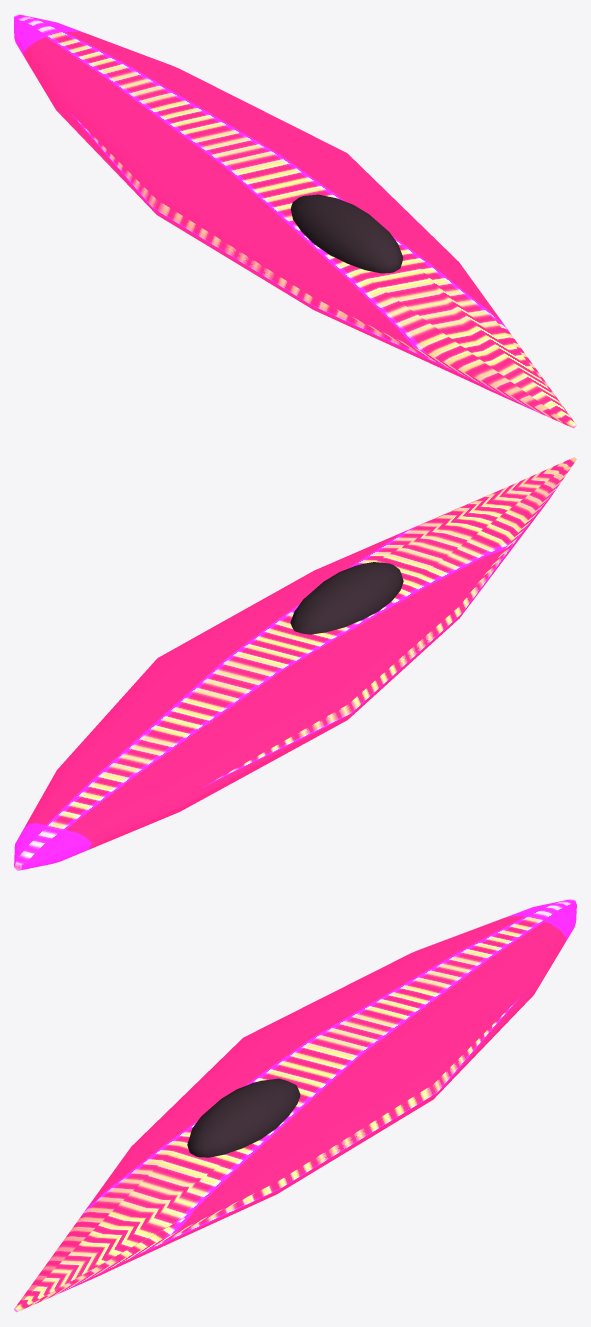
Rendered from HULL.glb.
3 renders of one model, top to bottom at view 1: azimuth 30°, elevation 25°; view 2: azimuth 150°, elevation 25°; view 3: azimuth 330°, elevation 25°, orthographic.
Visible parts, largest first — view 1: HULL_03_LITE; view 2: HULL_03_LITE; view 3: HULL_03_LITE.
Part boxes in pixels (x1=…): HULL_03_LITE: x1=14, y1=14, x2=576, y2=428; HULL_03_LITE: x1=14, y1=457, x2=576, y2=870; HULL_03_LITE: x1=14, y1=899, x2=576, y2=1312.
Size of the model in its own units: 1.7 by 0.5227 by 8.3.
2 materials, 1 textured.
